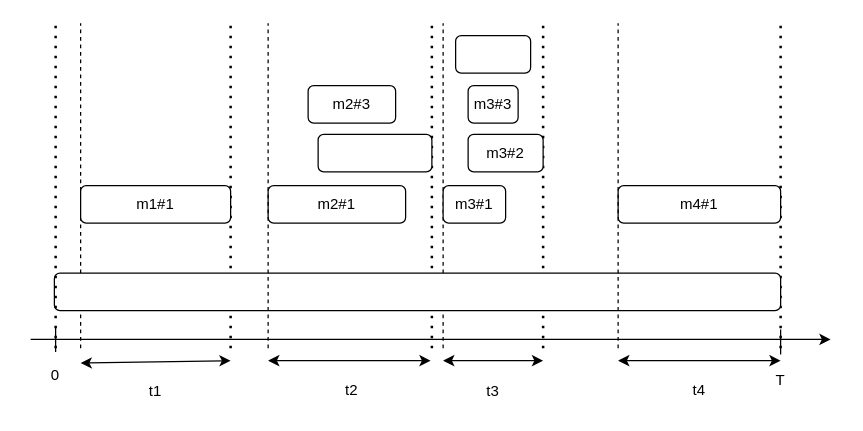
Image size: 863x431. Some labels were removed from this diagram. Each missing label, with the centre of its shape:
"app_1 runtime" belongs at [417,291].
"m2#2" belongs at [374,152].
"m3#4" belongs at [492,53].
